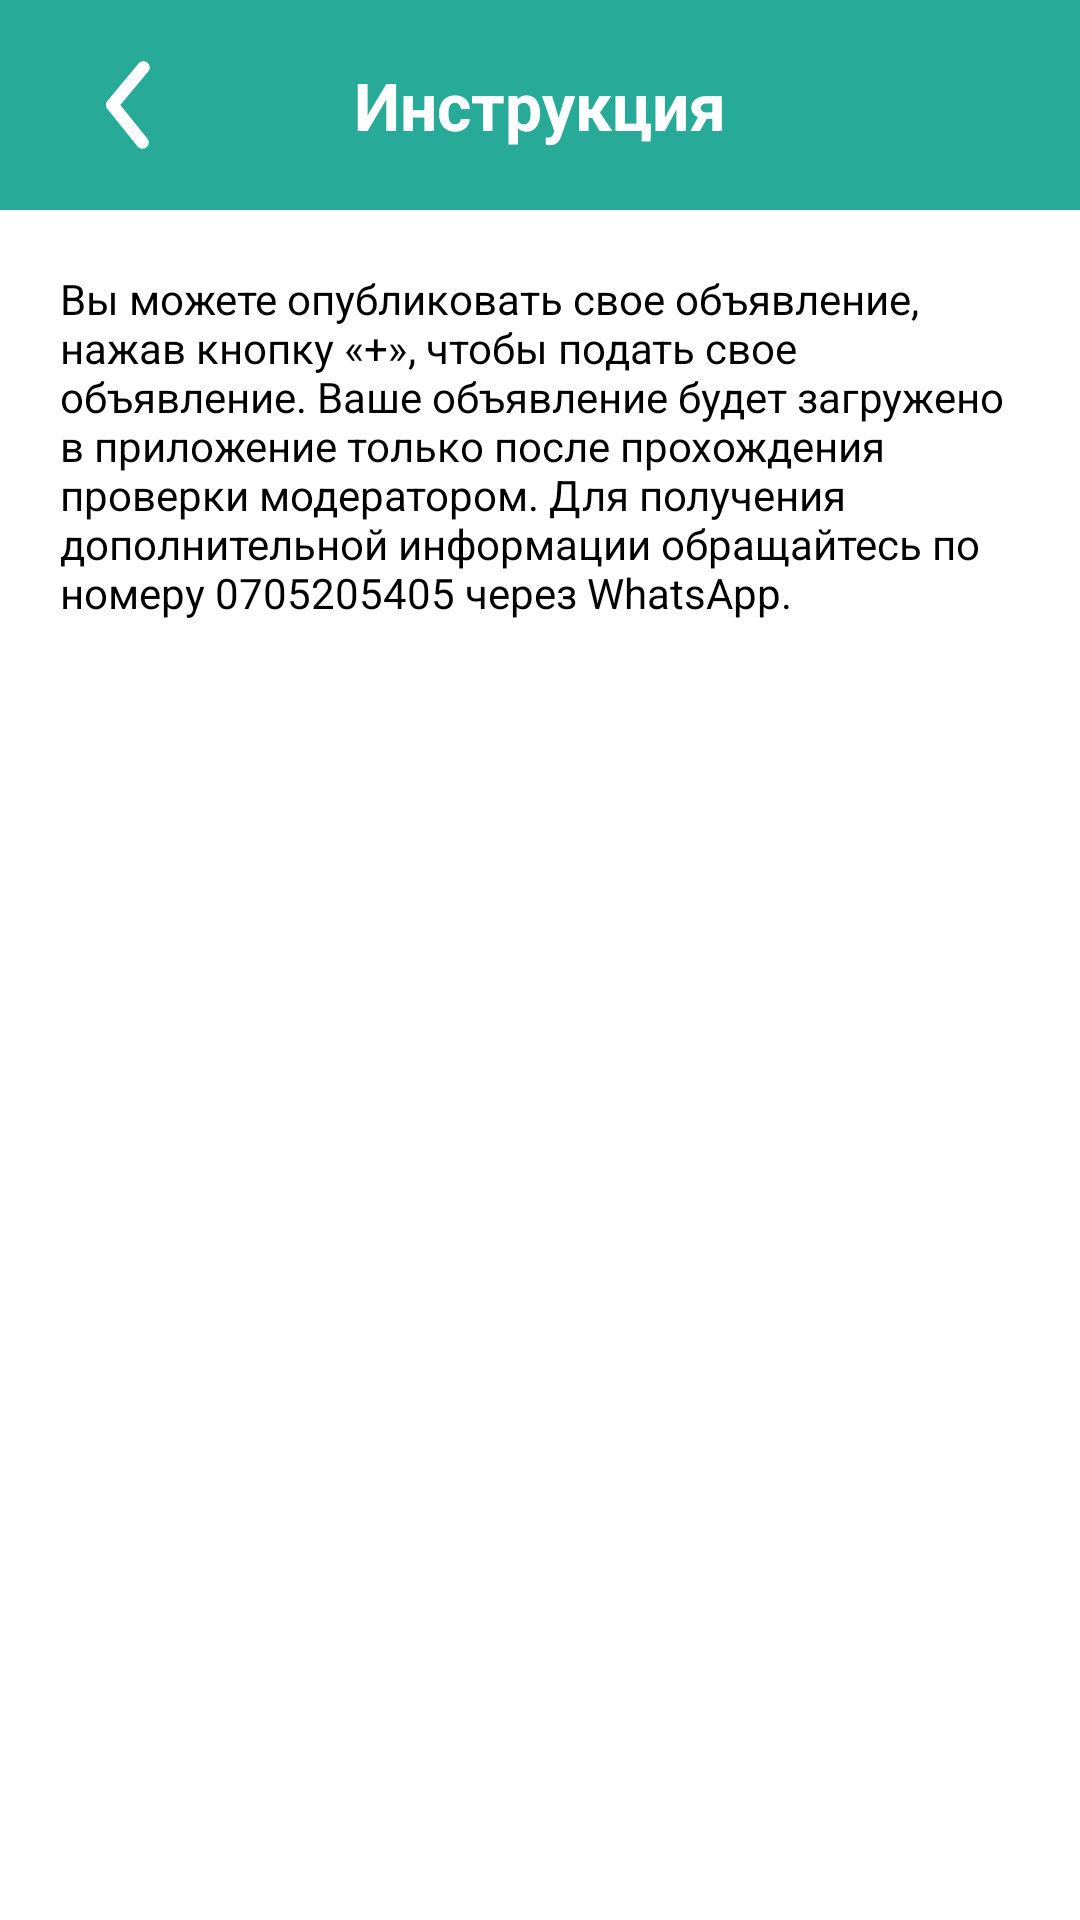

Where to tap for icons on this 1080w x 1920h app screen, as point (x, y):
back add: point (128, 105)
